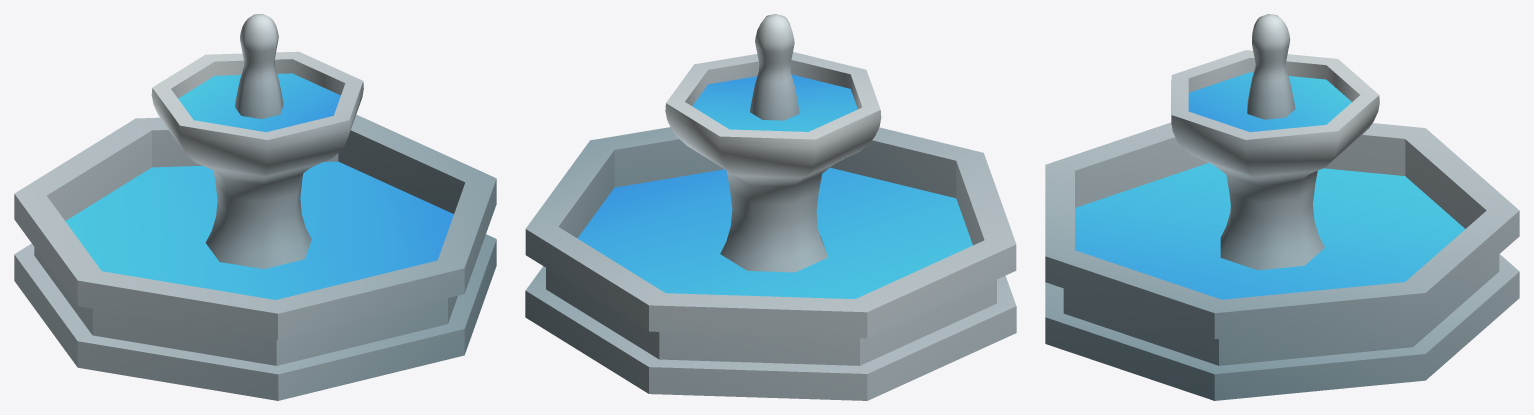
Rendered from fountain.glb.
The picture shows the model from 3 angles, left to right: view 1: azimuth 30°, elevation 25°; view 2: azimuth 150°, elevation 25°; view 3: azimuth 270°, elevation 25°; orthographic projection.
Visible parts, largest first — view 1: font 1, font 2, font 3; view 2: font 1, font 2, font 3; view 3: font 1, font 2, font 3.
Part boxes in pixels (left/top/right/bottom): font 1: left=14, top=114, right=496, bottom=400; font 2: left=151, top=51, right=363, bottom=269; font 3: left=235, top=14, right=283, bottom=119; font 1: left=525, top=127, right=1016, bottom=400; font 2: left=665, top=52, right=881, bottom=272; font 3: left=750, top=14, right=799, bottom=120; font 1: left=1045, top=122, right=1519, bottom=400; font 2: left=1171, top=50, right=1379, bottom=270; font 3: left=1247, top=14, right=1295, bottom=119.
Bounding box in the file's own units: 0.2832 × 0.1815 × 0.2761.
Materials: 1 (1 with a texture image).
